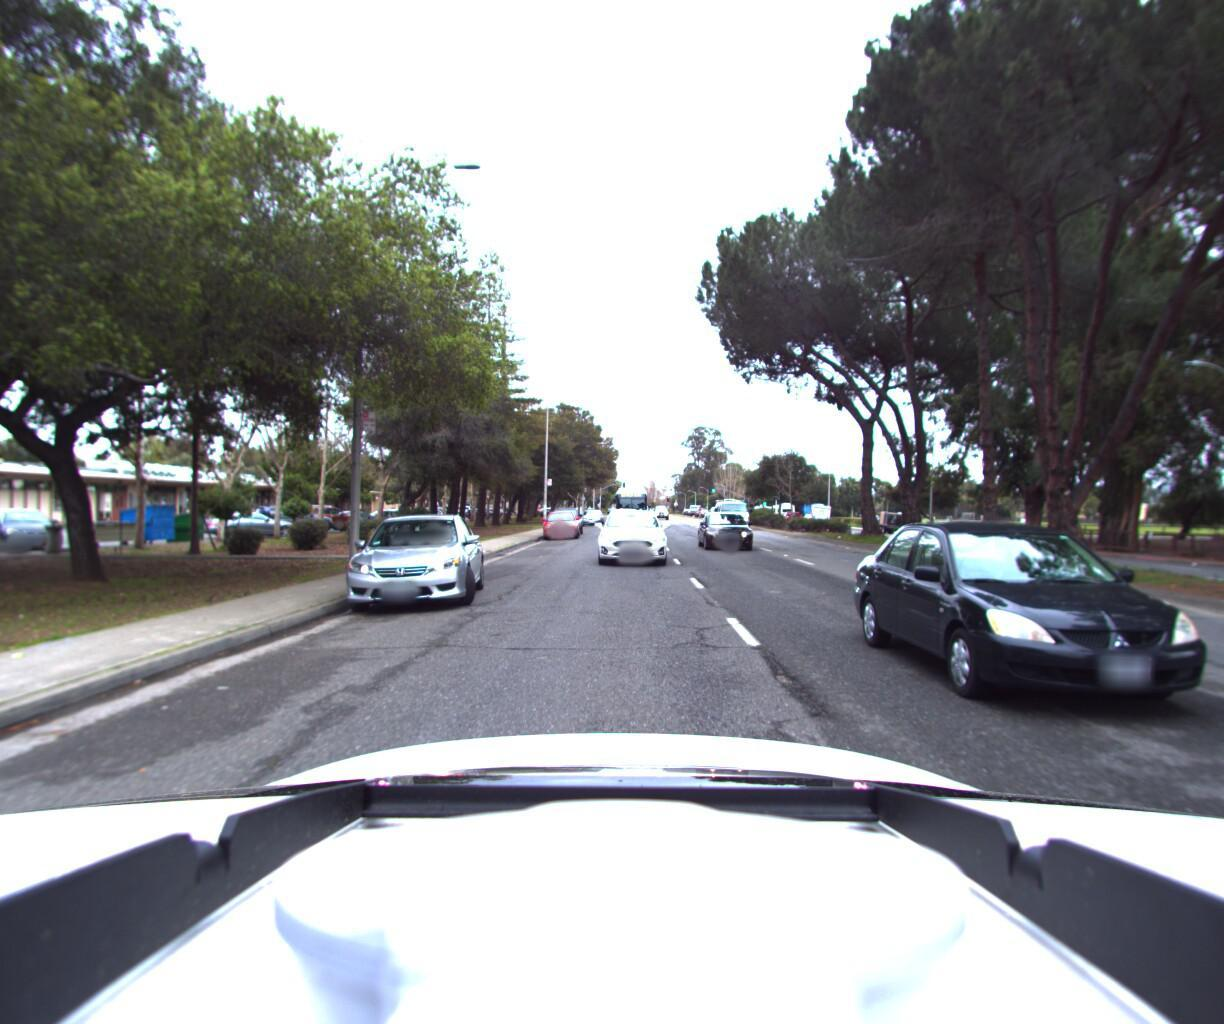car: (878, 499, 1224, 792), (345, 508, 486, 620), (598, 509, 674, 570), (696, 513, 755, 556), (541, 506, 579, 540), (714, 493, 753, 526), (547, 505, 584, 535), (867, 509, 911, 534), (776, 510, 804, 530), (580, 507, 602, 525)
other_vehicle: (610, 486, 647, 524)
